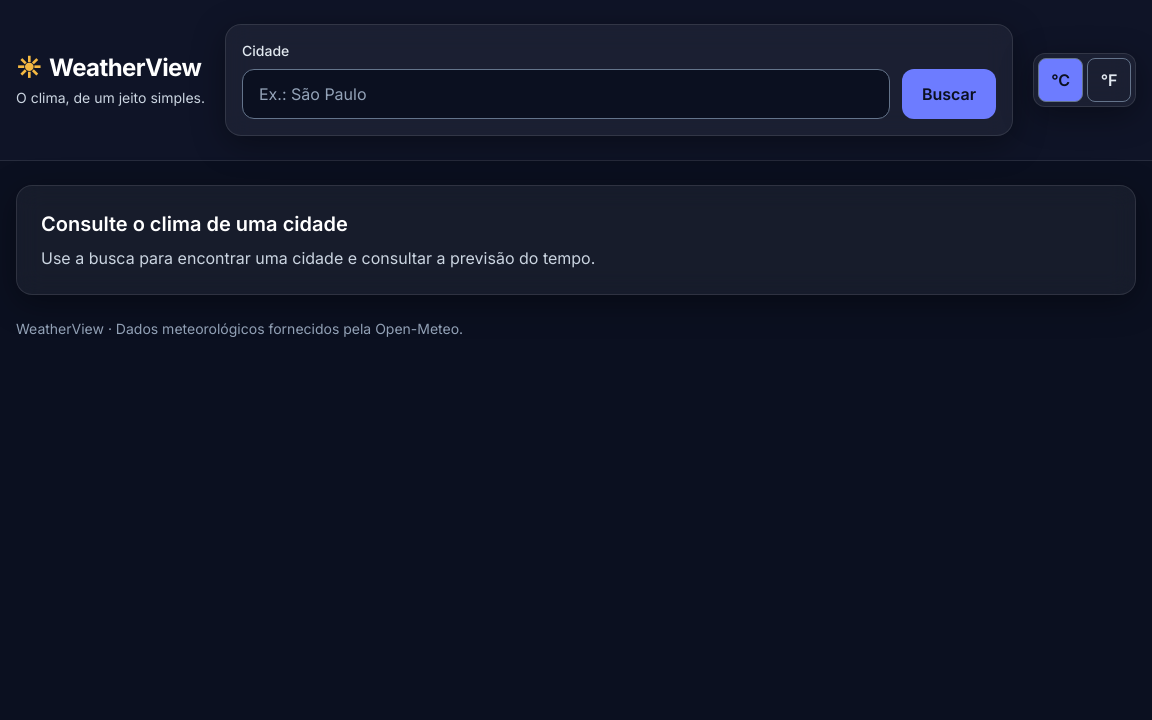
App › converte todas as temperaturas visíveis nos valores-limite e restaura Celsius
Type "São Paulo" into the search field labelled "Cidade" at coordinates (566, 94), box [242,69,890,119]
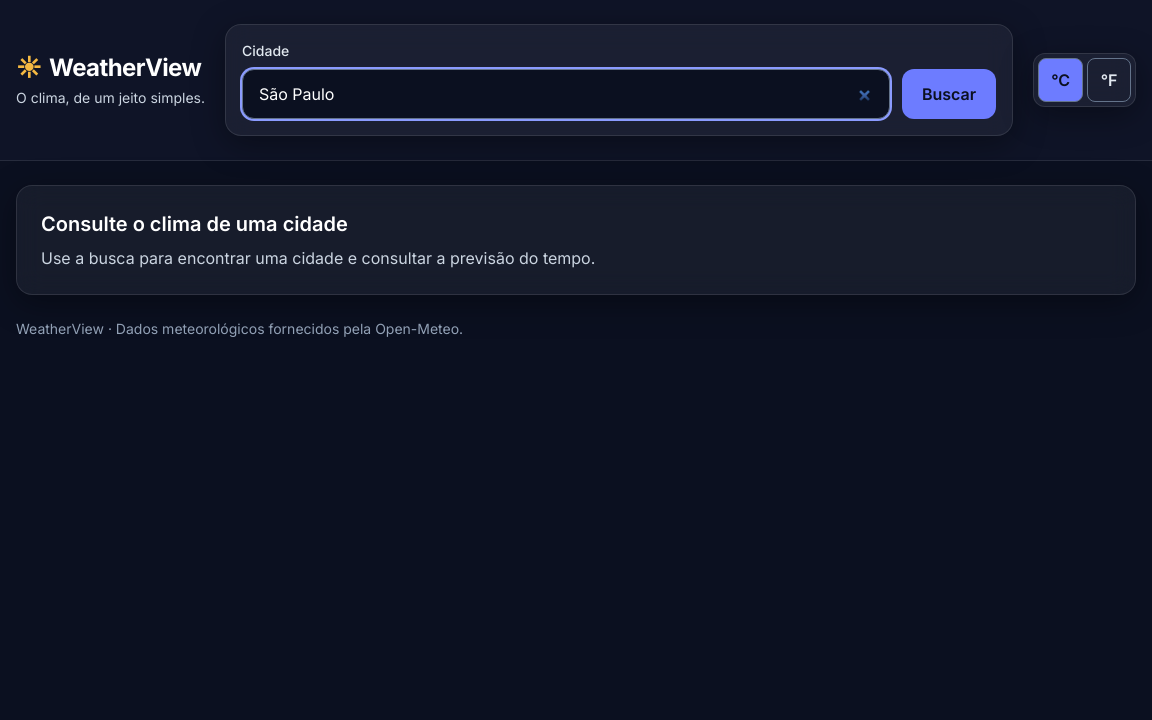
Press Enter
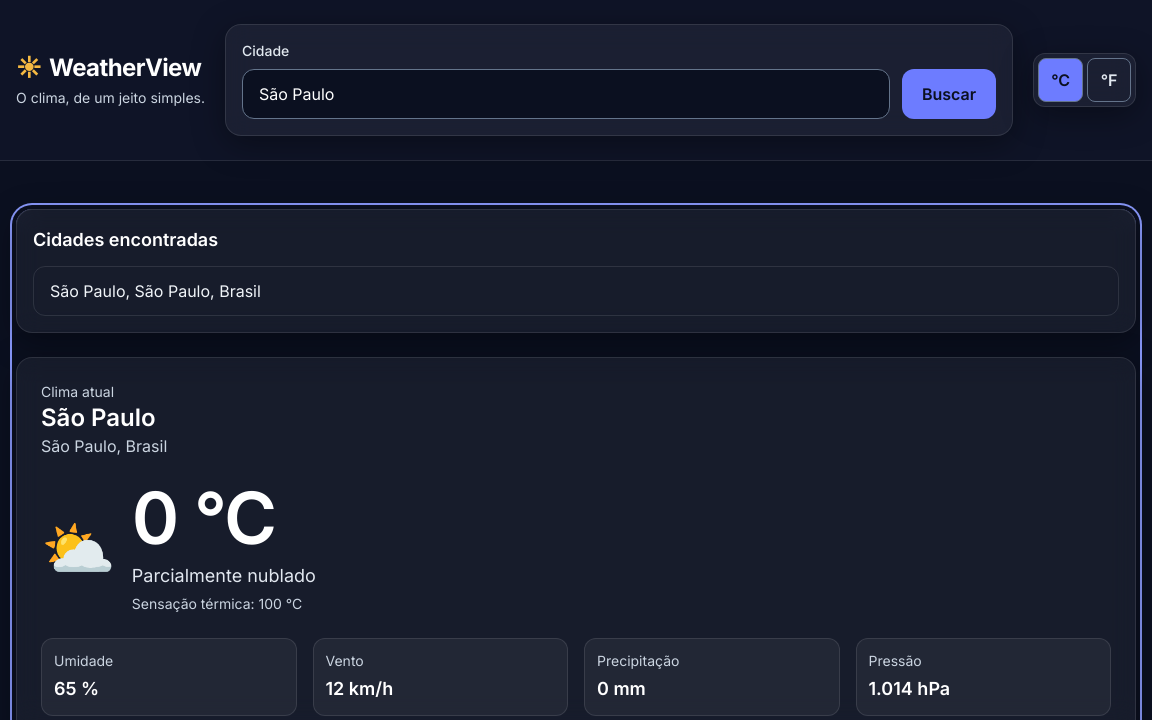
Now the text named "Temperatura atual" reads "0 °C", box [132,474,275,561]
Now the text "Sensação térmica: 100 °C" is shown, box [132,594,316,614]
Click the button named "°F — Fahrenheit" at coordinates (1109, 80), box [1087,58,1131,102]
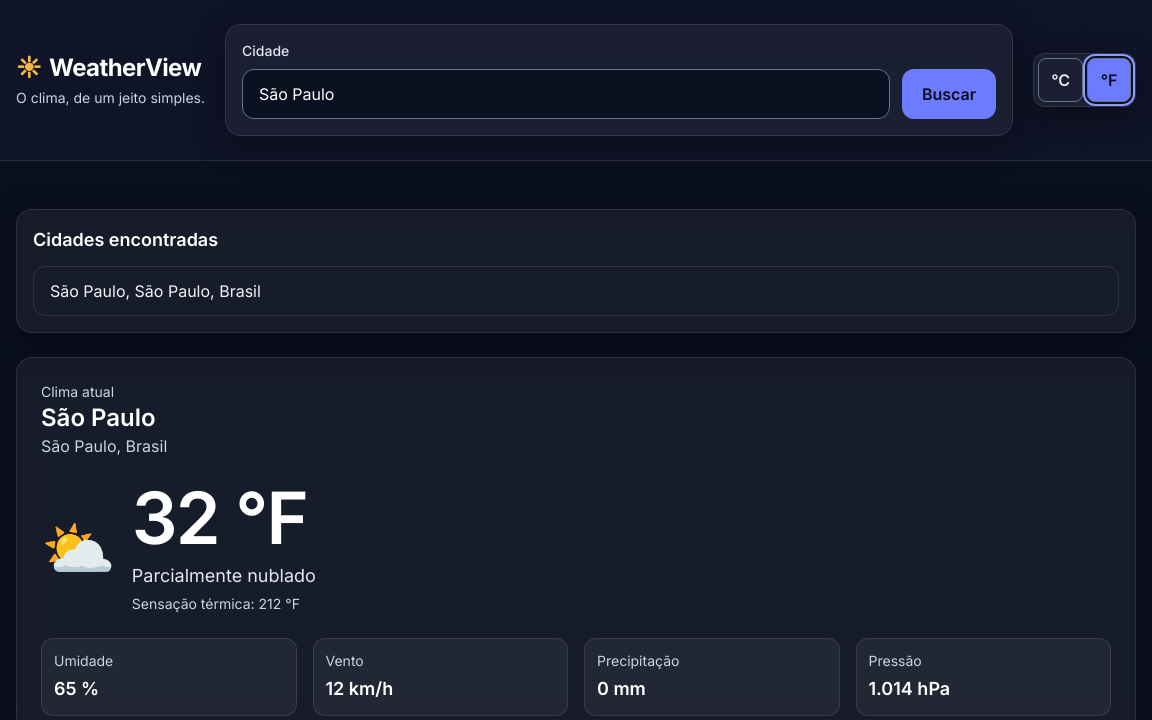
Now the text named "Temperatura atual" reads "32 °F", box [132,474,307,561]
Now the text "Sensação térmica: 212 °F" is shown, box [132,594,316,614]
Click the button named "°C — Celsius" at coordinates (1061, 80), box [1038,58,1083,102]
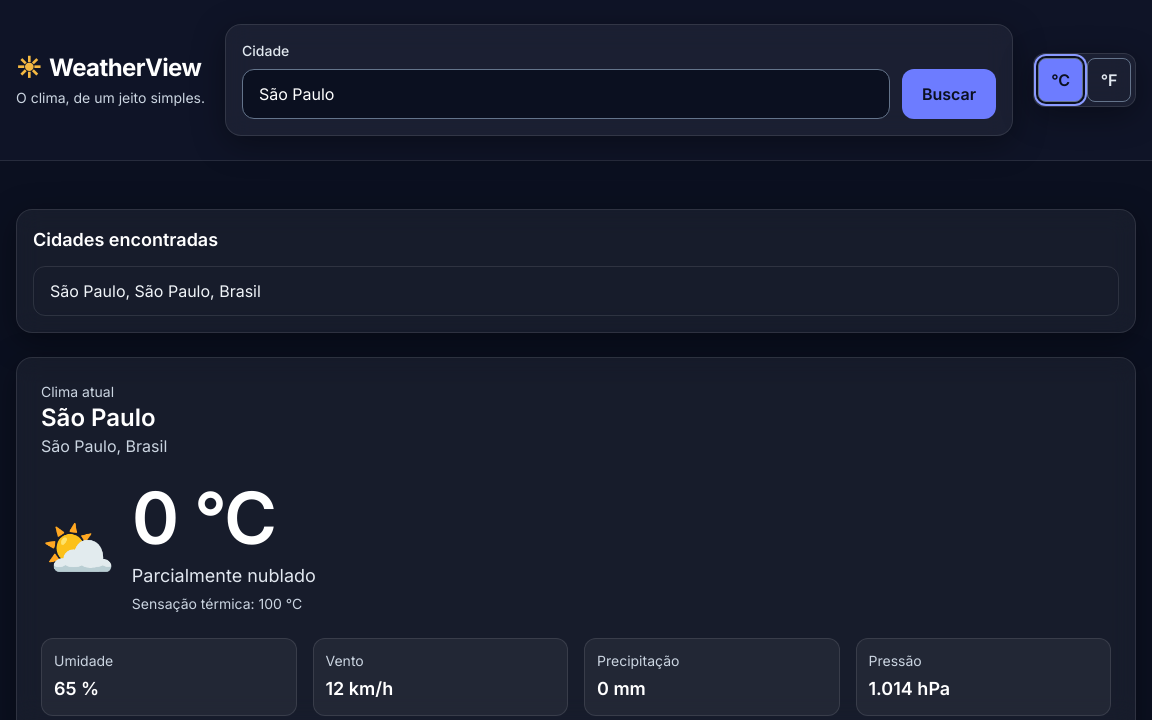
Now the text named "Temperatura atual" reads "0 °C", box [132,474,275,561]
Now the text "Sensação térmica: 100 °C" is shown, box [132,594,316,614]
